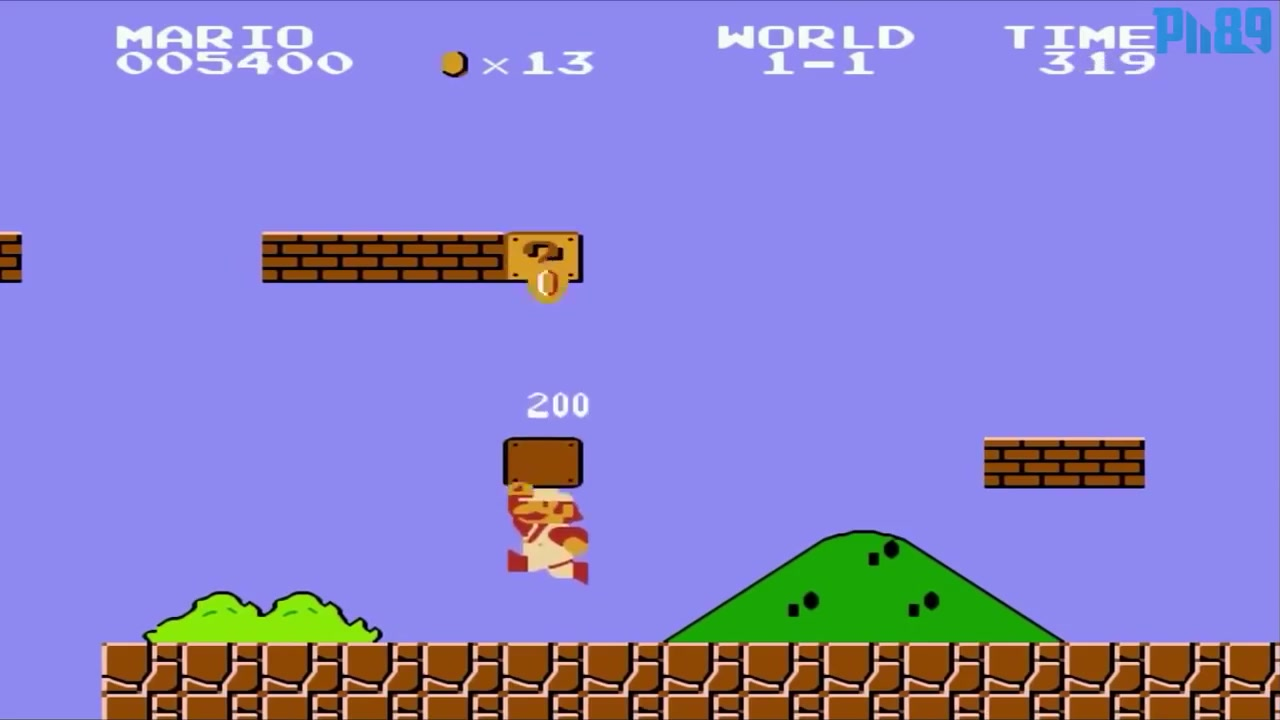mario: (492, 479, 600, 587)
